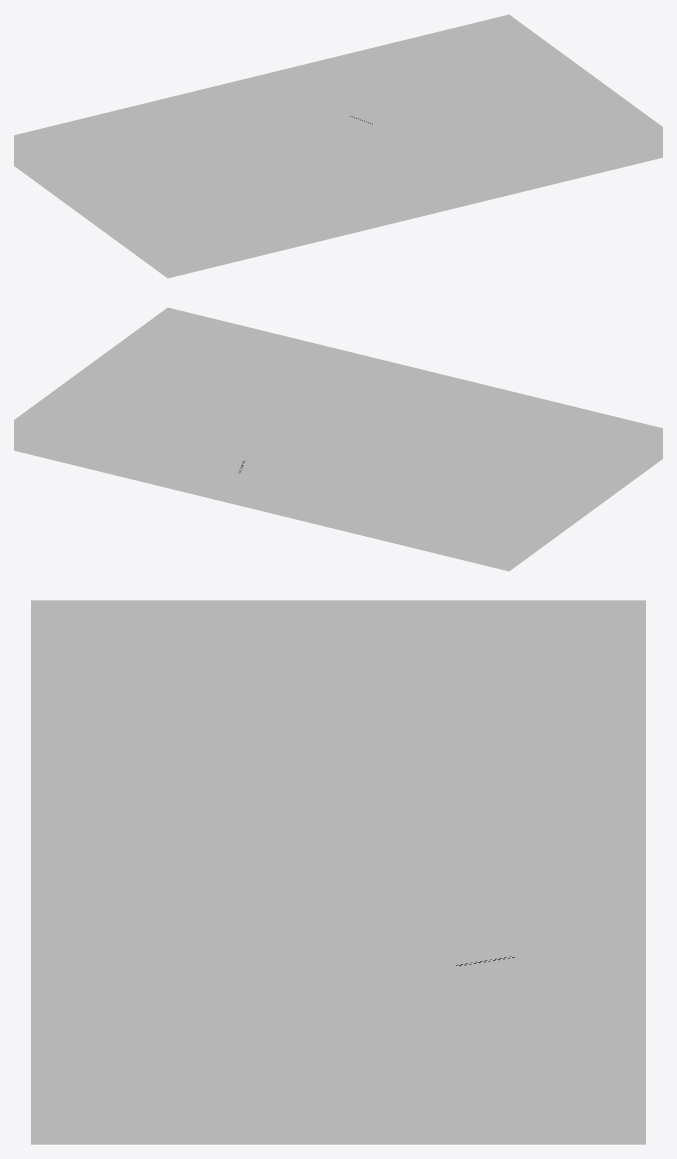
Rendered from 2022_june_open_cw.dae.
3 views of the same model, one above another, from view 1: azimuth 30°, elevation 25°; view 2: azimuth 150°, elevation 25°; view 3: azimuth 270°, elevation 25° (orthographic). The views are drawn at different scales.
Visible parts, largest first — view 1: wall, field, road, il, ol, cl; view 2: wall, field, road, il, ol, cl; view 3: field, wall, road, ol, il, cl.
Part boxes in pixels (bbox=[...]): wall: bbox=[14, 14, 662, 278]; field: bbox=[46, 45, 630, 247]; road: bbox=[94, 74, 586, 235]; il: bbox=[125, 87, 555, 221]; ol: bbox=[91, 73, 589, 235]; cl: bbox=[109, 80, 571, 228]; wall: bbox=[14, 307, 662, 571]; field: bbox=[46, 338, 630, 540]; road: bbox=[90, 371, 573, 536]; il: bbox=[121, 384, 542, 527]; ol: bbox=[87, 370, 575, 536]; cl: bbox=[105, 377, 558, 532]; field: bbox=[31, 661, 645, 1083]; wall: bbox=[31, 600, 645, 1144]; road: bbox=[87, 685, 589, 1083]; ol: bbox=[82, 683, 594, 1083]; il: bbox=[149, 711, 527, 1083]; cl: bbox=[117, 698, 559, 1083].
Size of the model in its own units: 16.93 by 9.11 by 1.
